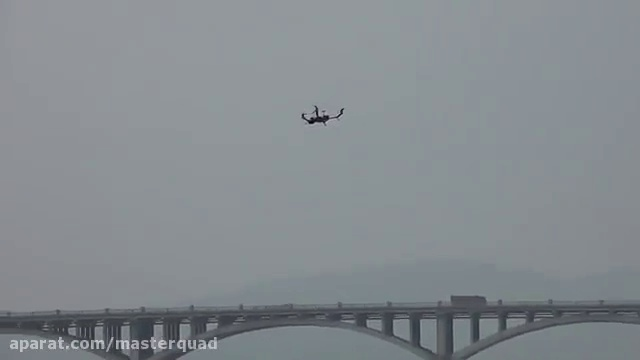drone_other: (295, 101, 350, 128)
